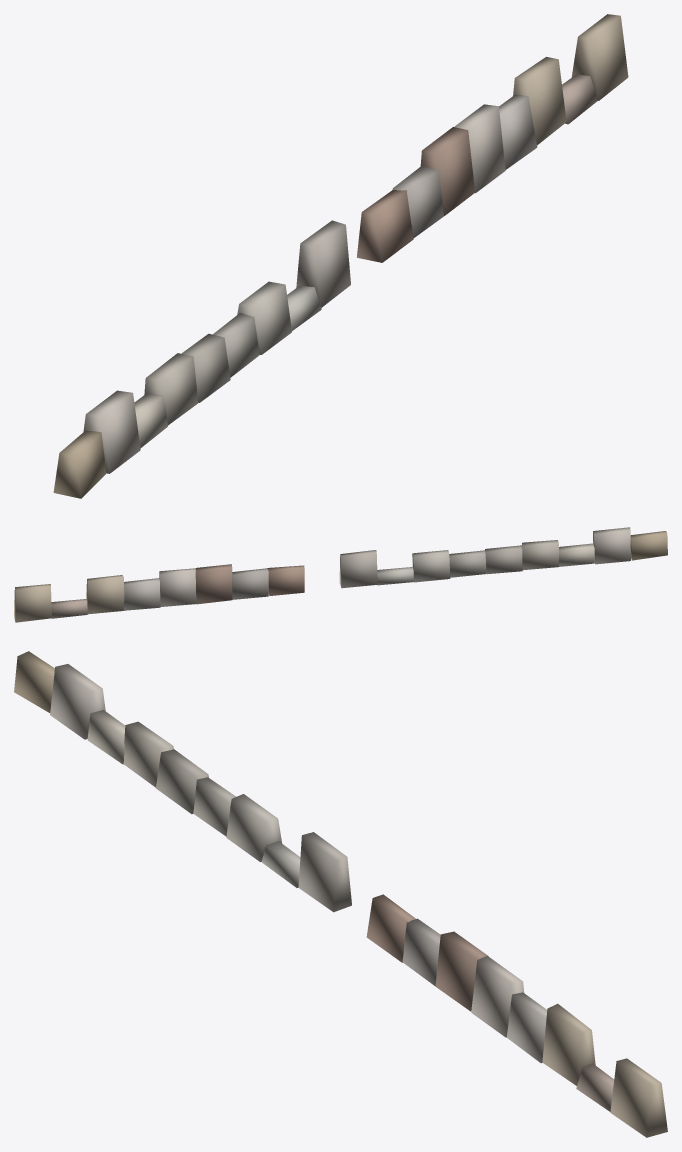
The model's file is farm_26_8_far.glb.
3 renders of one model, top to bottom at view 1: azimuth 30°, elevation 25°; view 2: azimuth 150°, elevation 25°; view 3: azimuth 270°, elevation 25°, orthographic. The views are drawn at different scales.
Visible parts, largest first — view 1: geometry_0; view 2: geometry_0; view 3: geometry_0.
Boxes of the visible parts, x1,y1,x2,y2 form: geometry_0: (53,14,628,498); geometry_0: (14,527,667,622); geometry_0: (14,651,667,1137).
Size of the model in its own units: 23.15 by 3.15 by 16.63.
